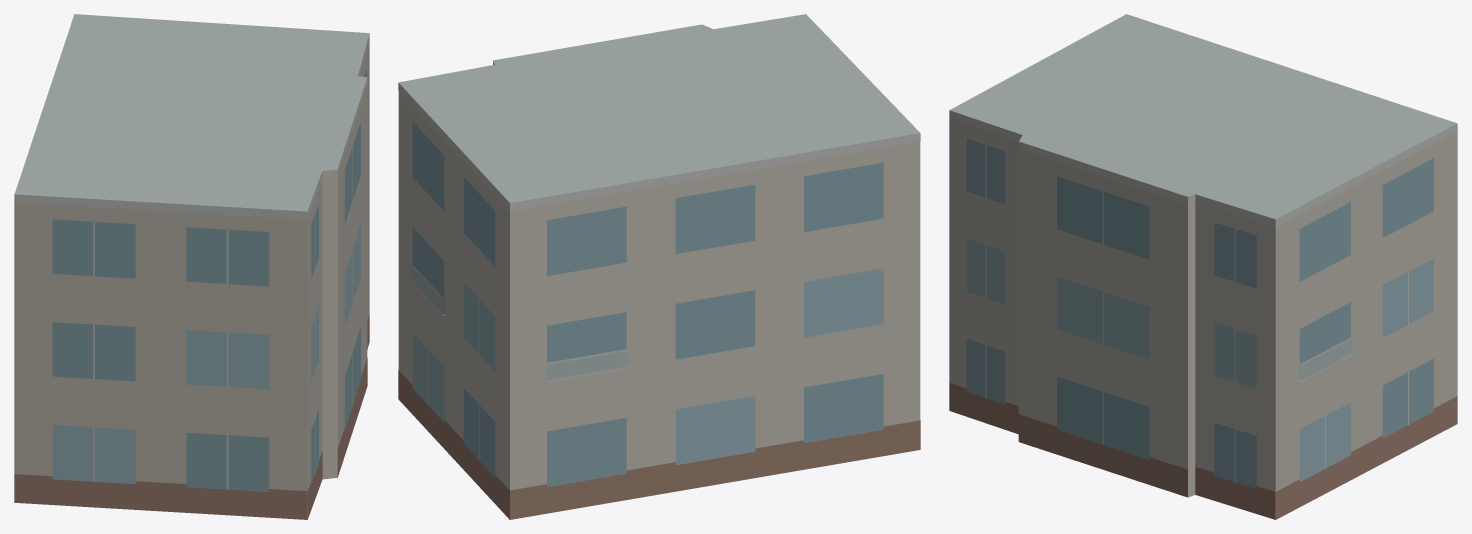
File: survey-upis-33006831.glb
The picture shows the model from 3 angles, left to right: view 1: azimuth 30°, elevation 25°; view 2: azimuth 150°, elevation 25°; view 3: azimuth 270°, elevation 25°; orthographic projection. The views are drawn at different scales.
Parts seen in each view (by area): view 1: survey-upis-33006831.tmp; view 2: survey-upis-33006831.tmp; view 3: survey-upis-33006831.tmp.
Part boxes in pixels (left/top/right/bottom): survey-upis-33006831.tmp: left=14, top=14, right=369, bottom=519; survey-upis-33006831.tmp: left=398, top=14, right=920, bottom=519; survey-upis-33006831.tmp: left=949, top=14, right=1457, bottom=519.
Bounding box in the file's own units: 13.41 × 9.15 × 14.03.
